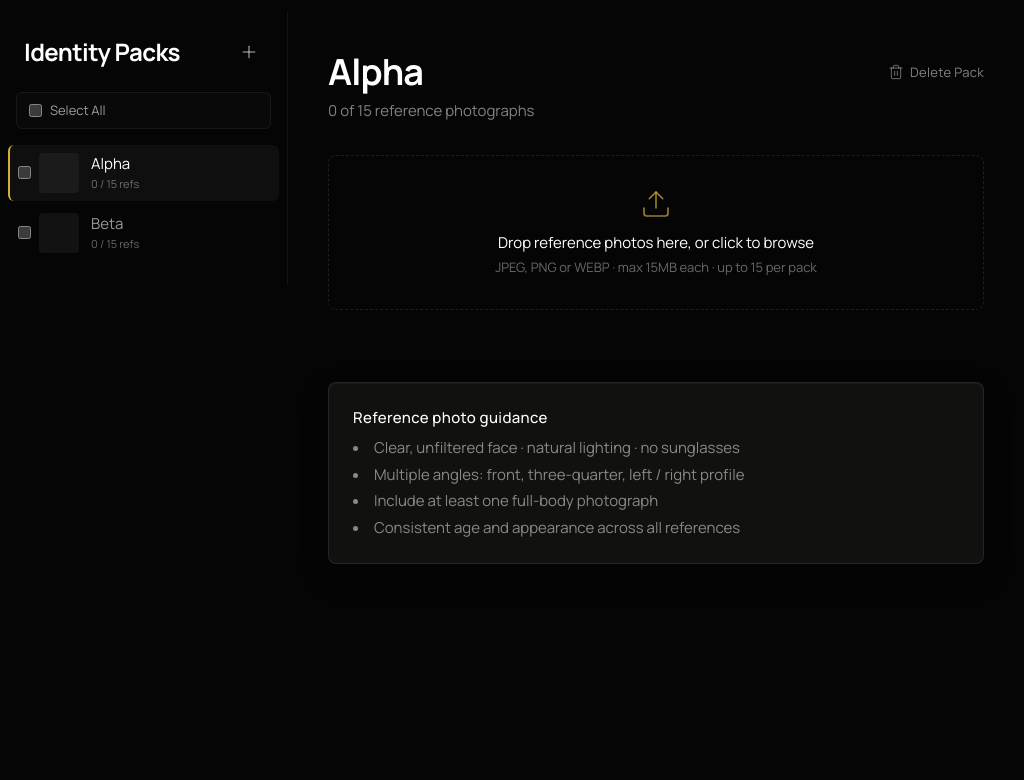
Scenario: Identity Packs recovery › deletes all explicitly selected packs and refreshes the list
Click the checkbox with test id "select-all-packs" at (36, 110), box [29,104,42,117]
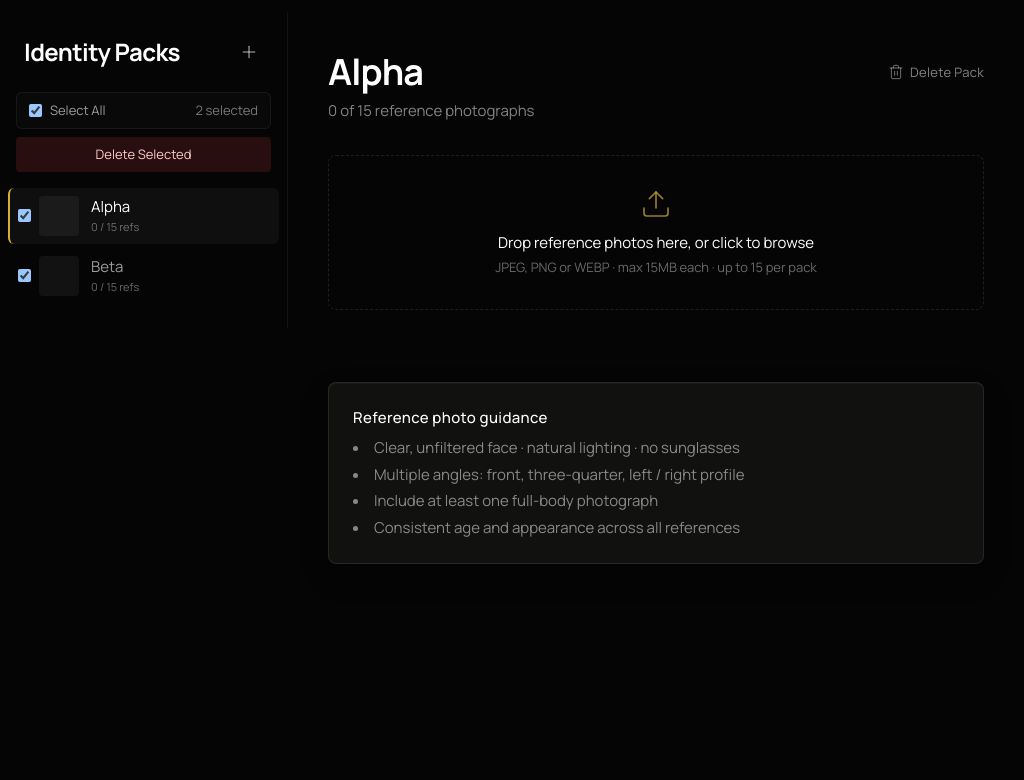
Click the button with test id "delete-selected-packs" at (144, 154), box [16,137,271,172]
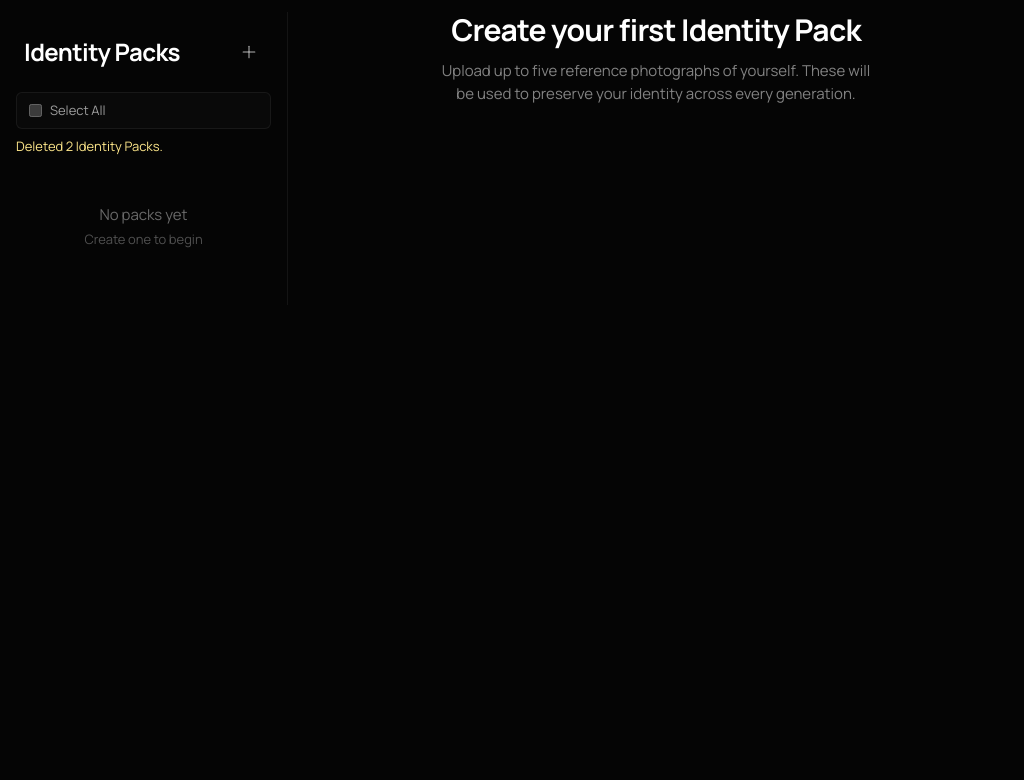
Expected: the element with test id "pack-item-alpha" is gone
Expected: the element with test id "pack-item-beta" is gone
Expected: the text "Deleted 2 Identity Packs." is shown, [16,137,163,155]
